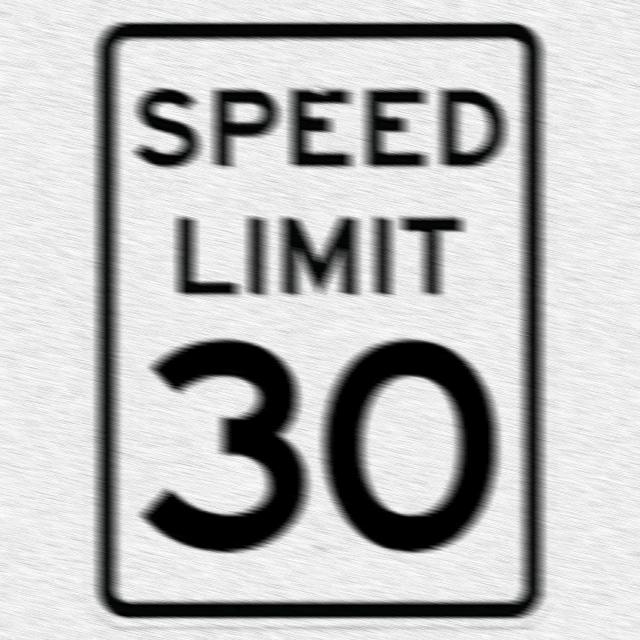speedLimit30: (84, 13, 550, 627)
